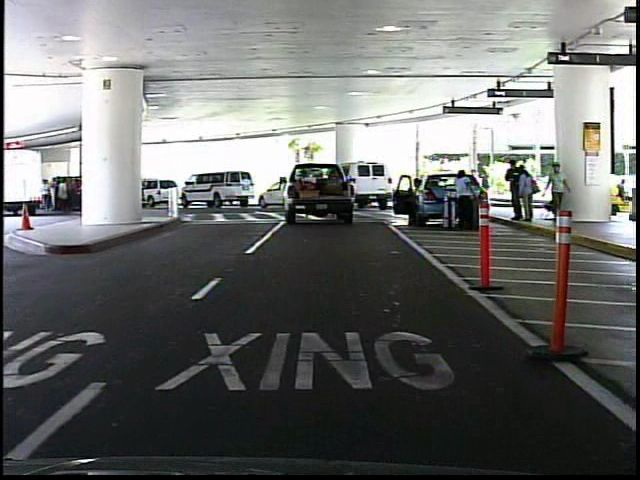person: (448, 165, 478, 235), (543, 159, 568, 227)
